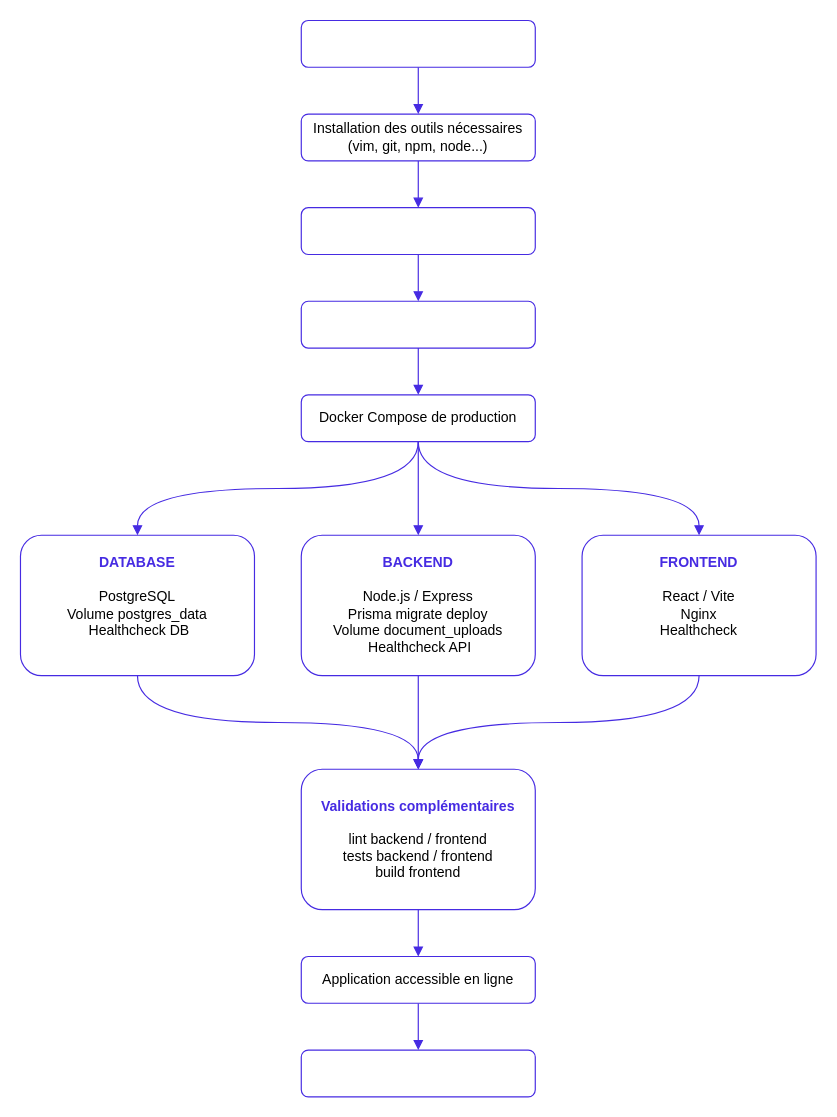
The diagram is 837 pixels wide and 1117 high, and some of its shapes have lost their labels. Each missing label, with the centre of its shape:
Clone du projet sur le VPS: [417,230]
Code source GitHub: [417,43]
Configuration du fichier .env: [417,324]
Tests fonctionnels post-déploiement: [417,1073]
